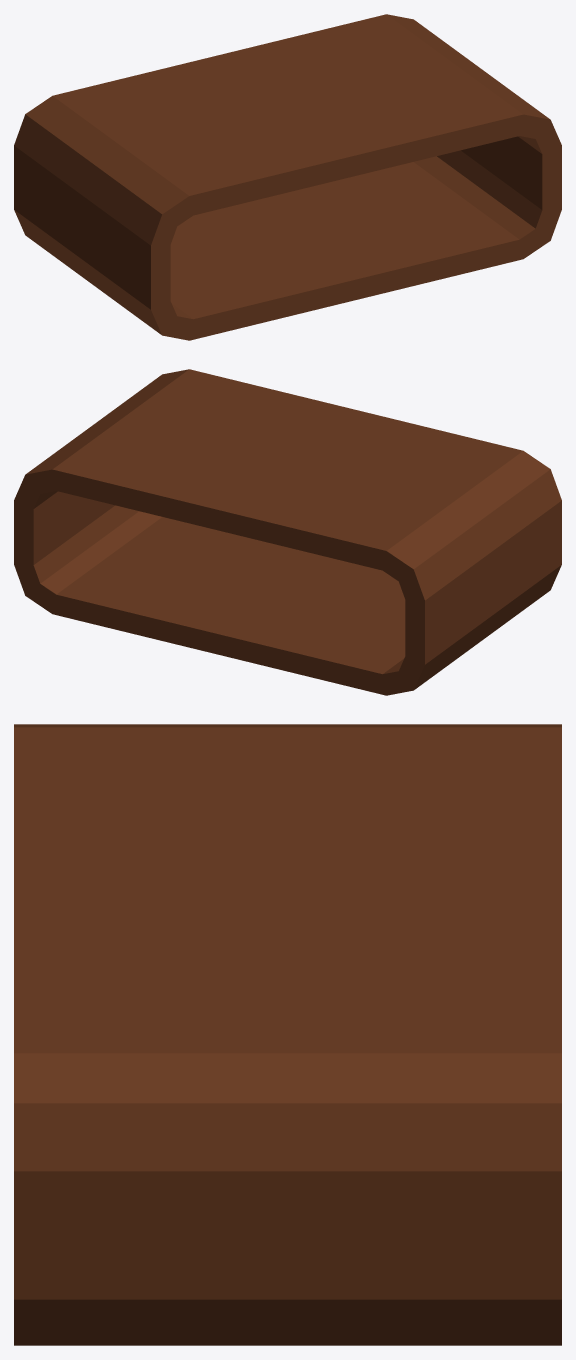
File: ModernCoffeeTable.glb
3 views of the same model, one above another, from view 1: azimuth 30°, elevation 25°; view 2: azimuth 150°, elevation 25°; view 3: azimuth 270°, elevation 25° (orthographic). The views are drawn at different scales.
Parts seen in each view (by area): view 1: ModernCoffeeTable; view 2: ModernCoffeeTable; view 3: ModernCoffeeTable.
Boxes of the visible parts, x1=… form: ModernCoffeeTable: x1=14, y1=14, x2=561, y2=340; ModernCoffeeTable: x1=14, y1=369, x2=561, y2=695; ModernCoffeeTable: x1=14, y1=724, x2=561, y2=1345.
Size of the model in its own units: 1.19 by 0.4 by 0.6861.
